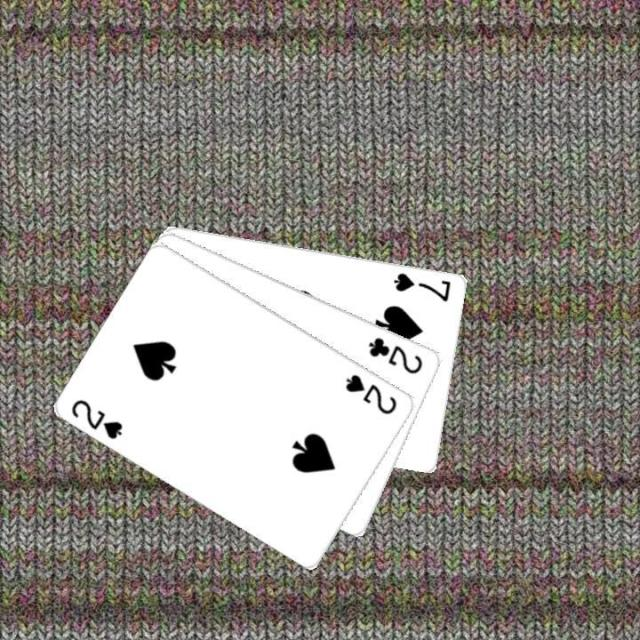2C: (364, 332, 425, 376)
2S: (68, 394, 126, 442), (341, 370, 399, 416)
7S: (391, 269, 454, 303)
